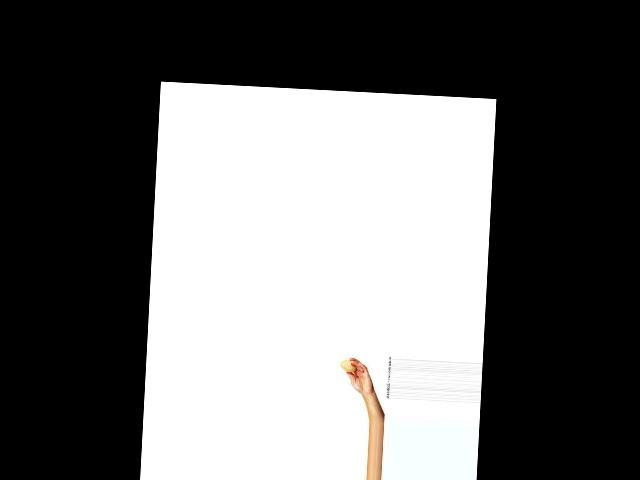egg: (340, 359, 357, 372)
